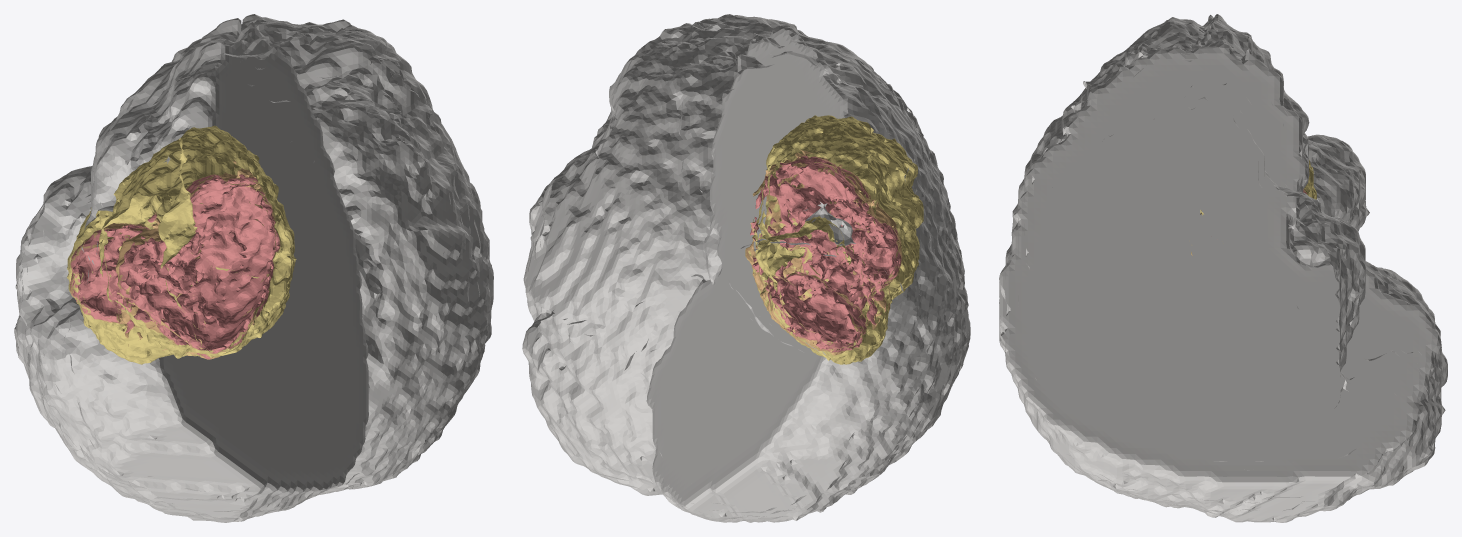
The picture shows the model from 3 angles, left to right: view 1: azimuth 30°, elevation 25°; view 2: azimuth 150°, elevation 25°; view 3: azimuth 270°, elevation 25°; orthographic projection. The views are drawn at different scales.
Parts seen in each view (by area): view 1: brain_left, brain_right, enhancing, edema, core; view 2: brain_left, brain_right, enhancing, edema, core; view 3: brain_right, brain_left.
Boxes of the visible parts, x1,y1,x2,y2 form: brain_left: [14, 18, 368, 522]; brain_right: [241, 14, 493, 495]; enhancing: [70, 174, 279, 359]; edema: [67, 125, 296, 364]; core: [70, 161, 280, 358]; brain_left: [646, 26, 970, 522]; brain_right: [522, 14, 807, 508]; enhancing: [750, 155, 901, 352]; edema: [745, 115, 923, 364]; core: [745, 150, 902, 355]; brain_right: [999, 42, 1445, 522]; brain_left: [999, 14, 1447, 386].
Bounding box in the file's own units: 144 × 158 × 142.
